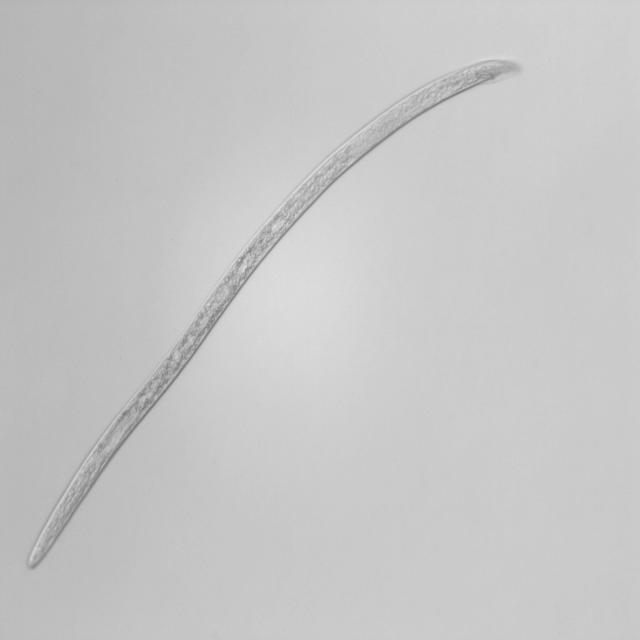Pratylenchus: (25, 51, 543, 582)
